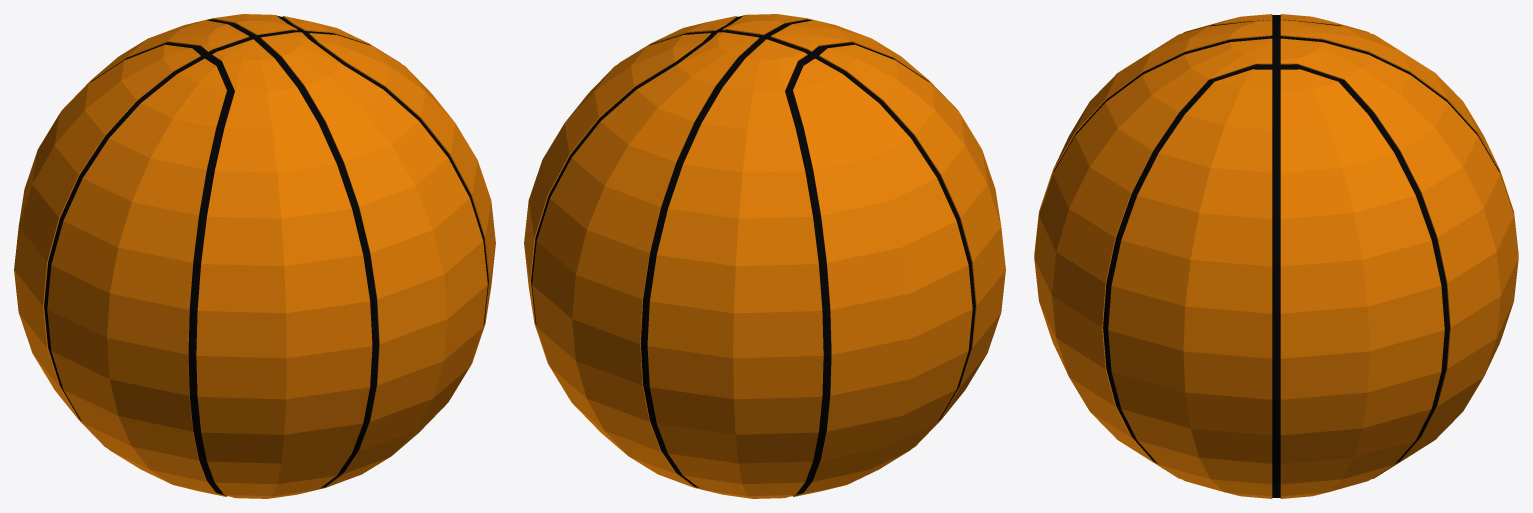
The model's file is basketball 29.11.2023.fbx.
3 renders of one model, left to right at view 1: azimuth 30°, elevation 25°; view 2: azimuth 150°, elevation 25°; view 3: azimuth 270°, elevation 25°, orthographic.
Visible parts, largest first — view 1: Sphere; view 2: Sphere; view 3: Sphere.
Boxes of the visible parts, bbox=[...] form: Sphere: bbox=[14, 14, 495, 498]; Sphere: bbox=[524, 14, 1005, 498]; Sphere: bbox=[1034, 14, 1518, 498].
Bounding box in the file's own units: 199 × 200 × 199.
